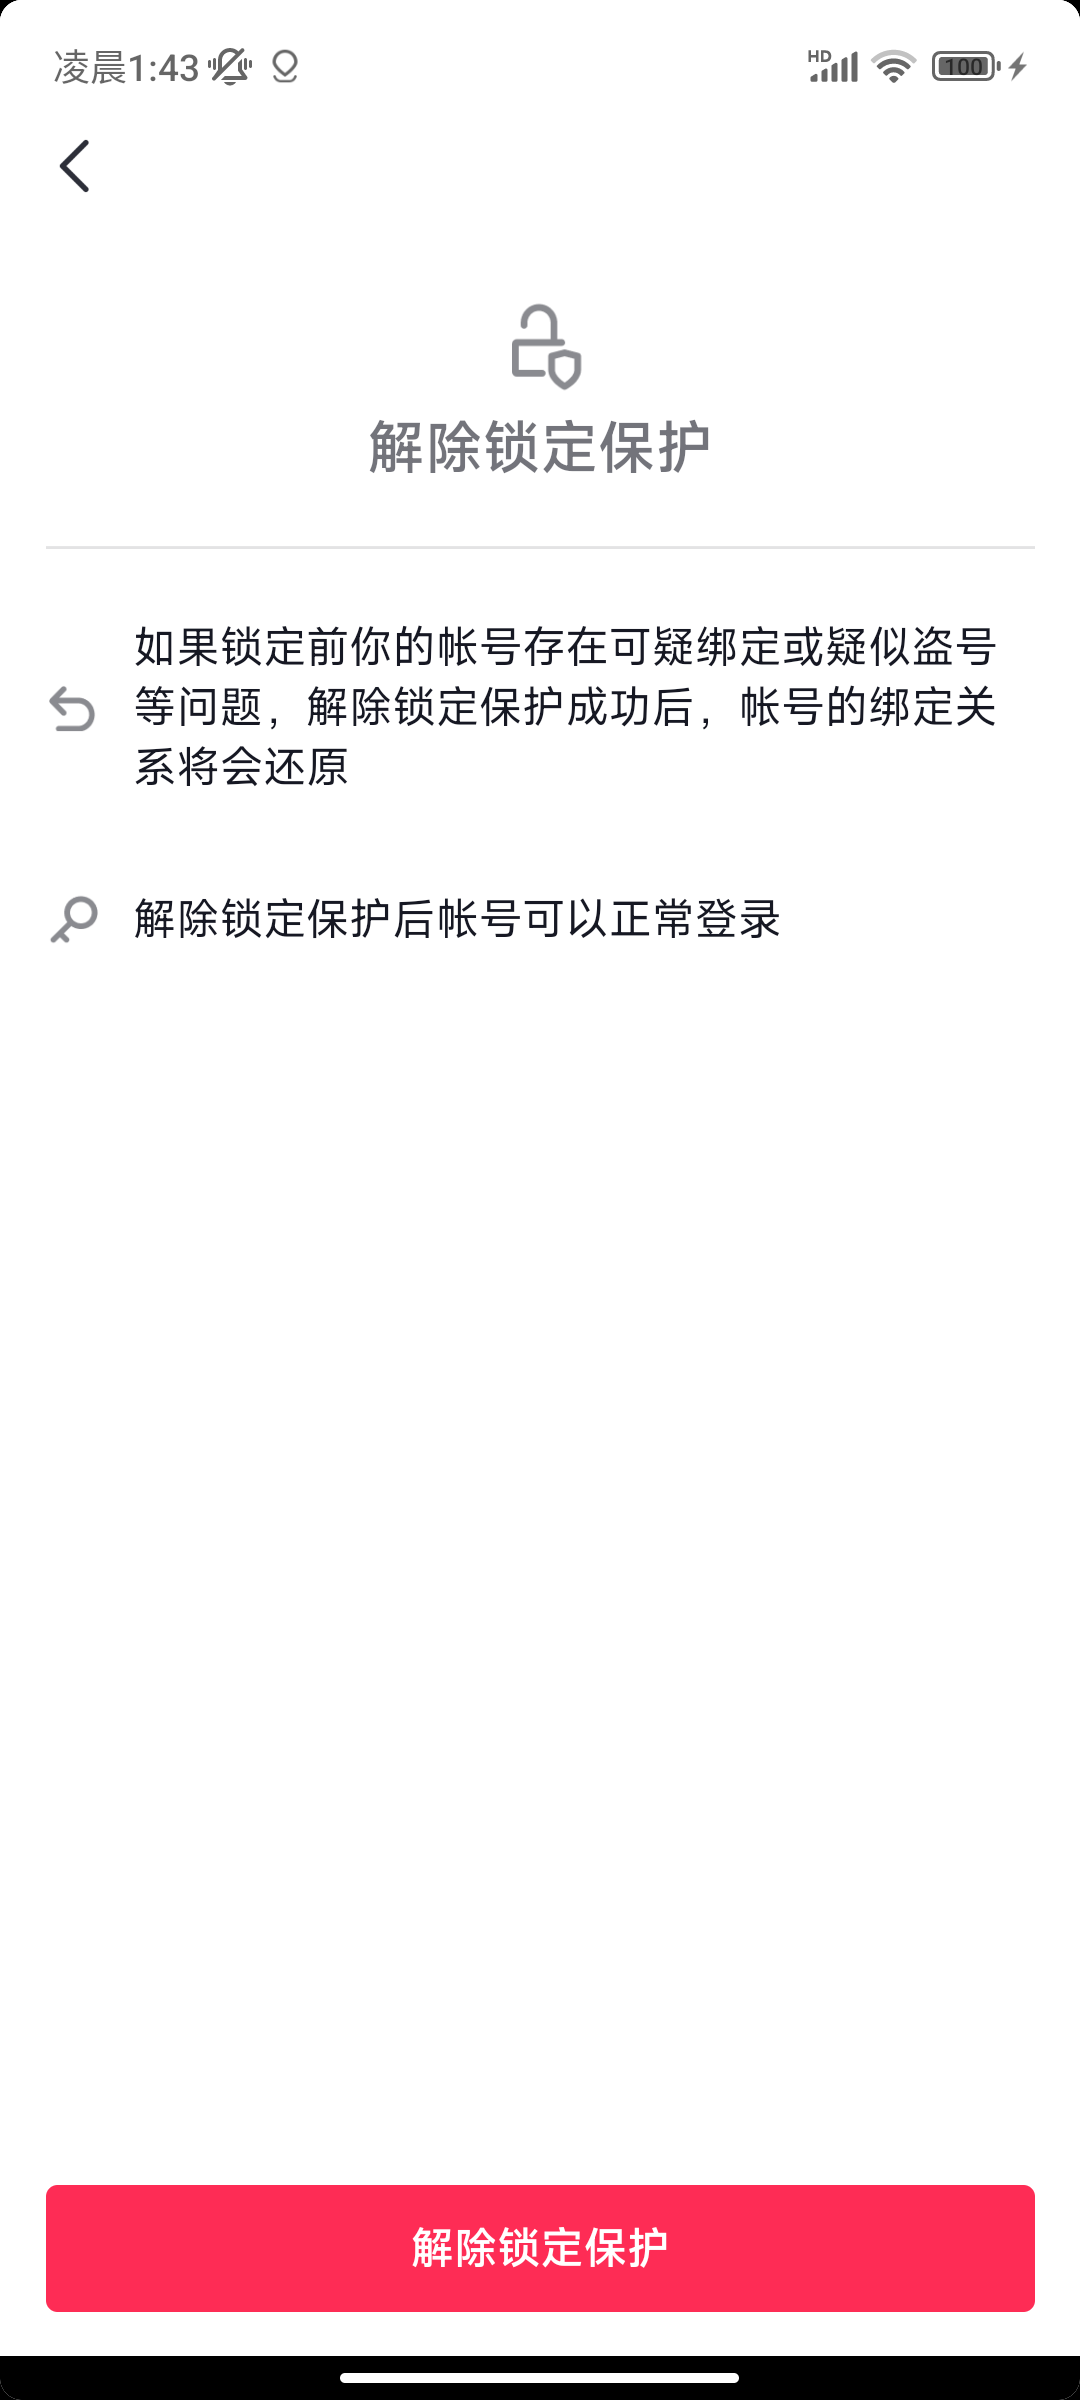ui_group: (32, 236, 1036, 2314)
